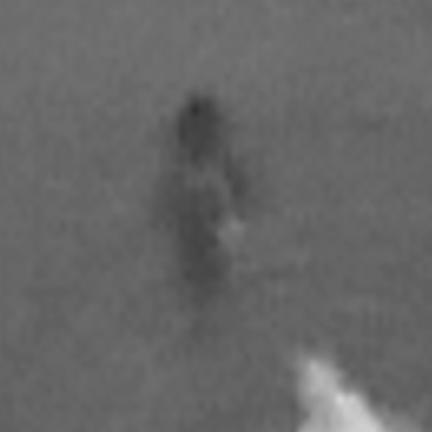flukeprints: (297, 356, 423, 431)
